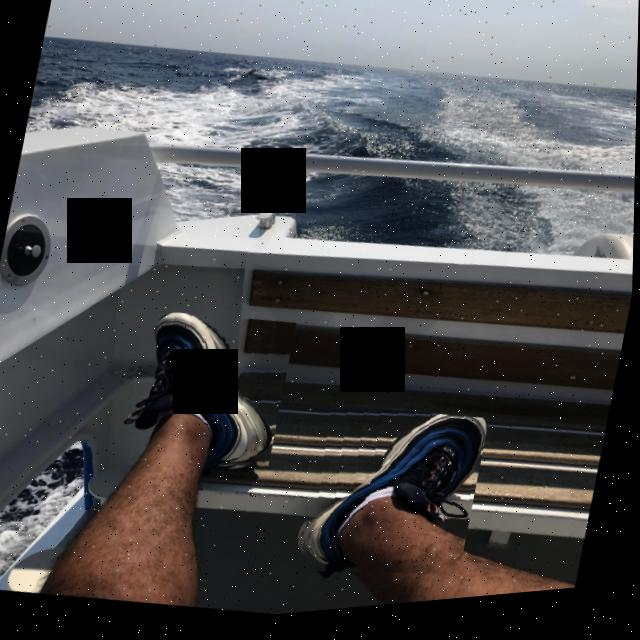shoe: (293, 398, 492, 605), (122, 302, 298, 490)
